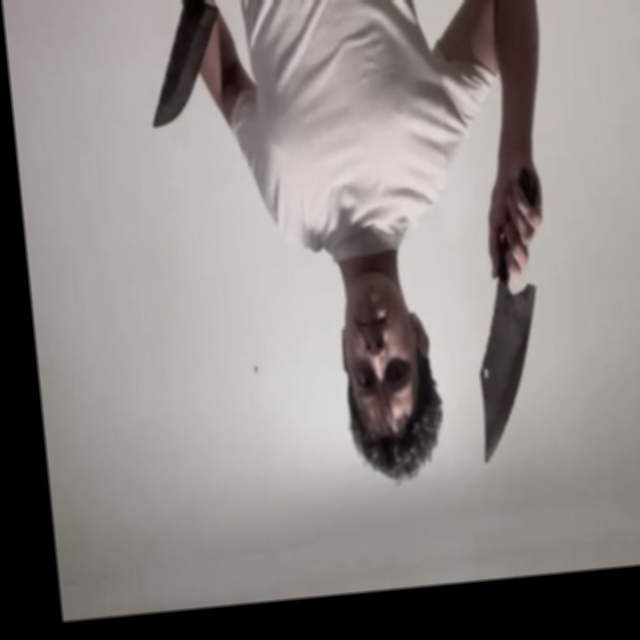Sharp-Object: (468, 281, 553, 464), (142, 0, 230, 130)
